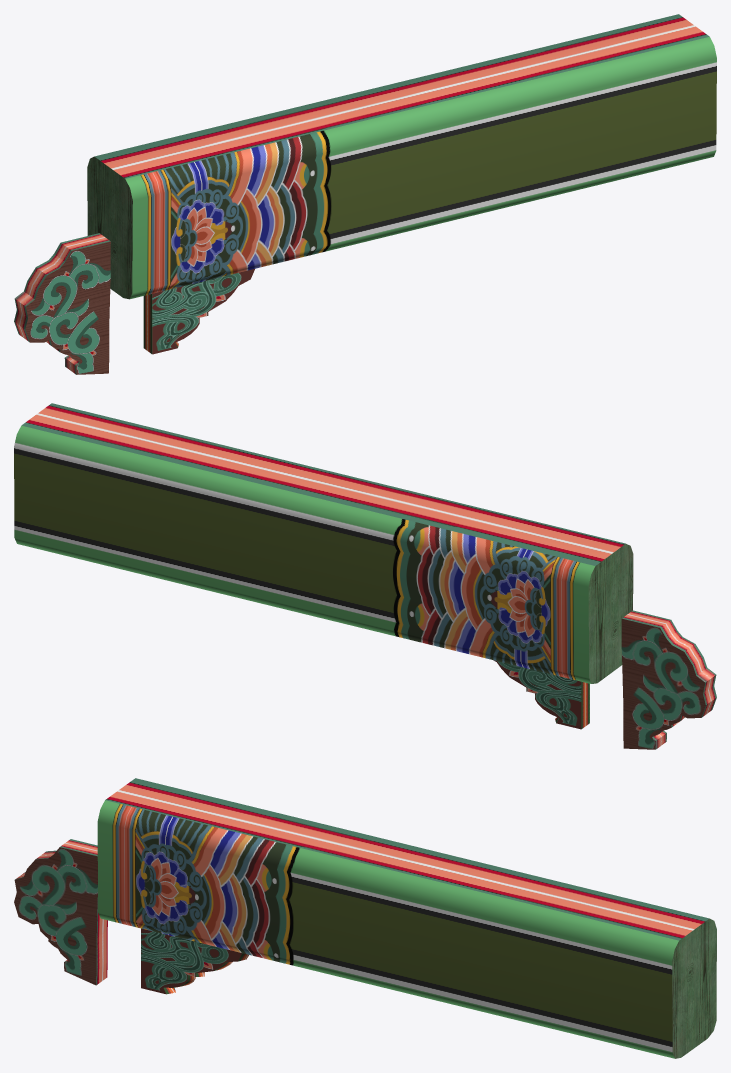
The model's file is SM_R_Beam_20.fbx.
3 views of the same model, one above another, from view 1: azimuth 30°, elevation 25°; view 2: azimuth 150°, elevation 25°; view 3: azimuth 330°, elevation 25° (orthographic).
Parts seen in each view (by area): view 1: SM_R_Beam_20; view 2: SM_R_Beam_20; view 3: SM_R_Beam_20.
Part boxes in pixels (x1,y1,x2,y2): SM_R_Beam_20: (14, 14, 716, 374); SM_R_Beam_20: (14, 403, 716, 749); SM_R_Beam_20: (14, 778, 716, 1058).
Size of the model in its own units: 357 by 41.44 by 97.49.
Materials: 6 (6 with a texture image).
